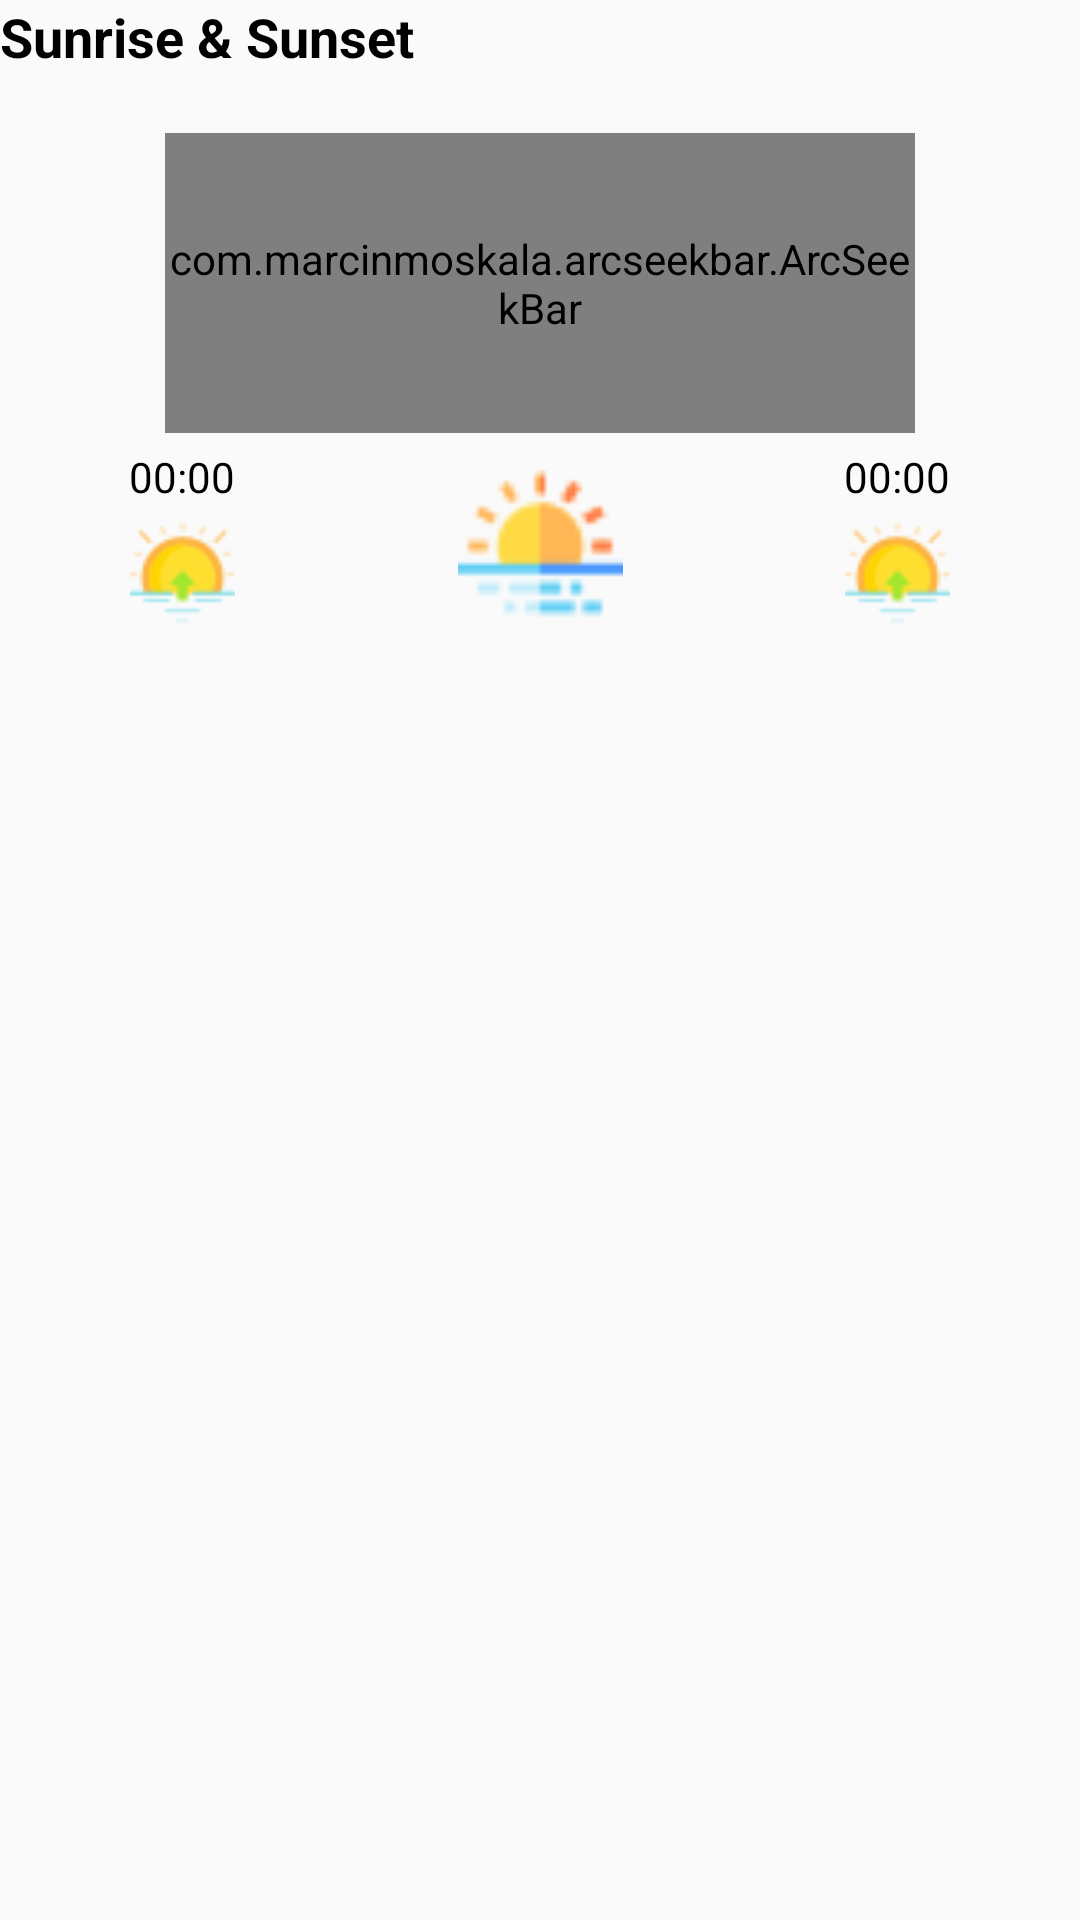

Named icons in this screenshot (1080x1920) and their bounding boxes, (x1, y1, x2, y2):
sun: (458, 470, 623, 616)
sunrise: (130, 523, 235, 613), (845, 524, 950, 613)
